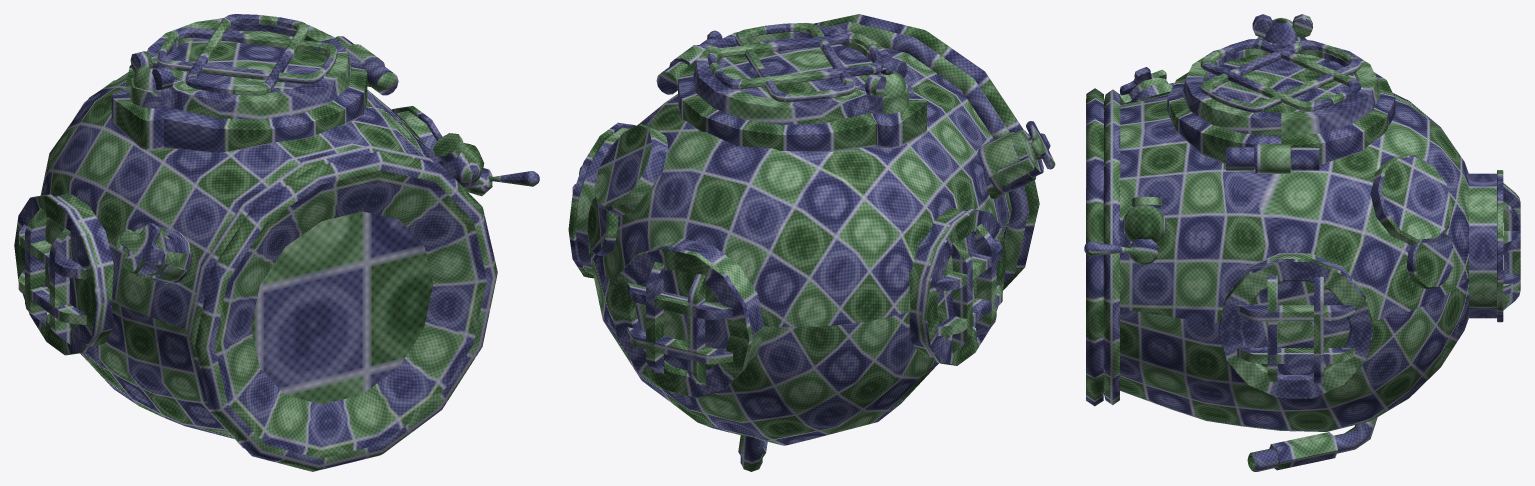
The model's file is Palombaro.FBX.
3 views of the same model, side by side, from view 1: azimuth 30°, elevation 25°; view 2: azimuth 150°, elevation 25°; view 3: azimuth 270°, elevation 25° (orthographic). The views are drawn at different scales.
Visible parts, largest first — view 1: SM_Helmet_01_LP; view 2: SM_Helmet_01_LP; view 3: SM_Helmet_01_LP.
Part boxes in pixels (x1,y1,x2,y2): SM_Helmet_01_LP: [14, 14, 539, 471]; SM_Helmet_01_LP: [568, 14, 1055, 471]; SM_Helmet_01_LP: [1084, 14, 1520, 471].
Size of the model in its own units: 45.34 by 44.93 by 45.8.
1 material, 1 textured.
